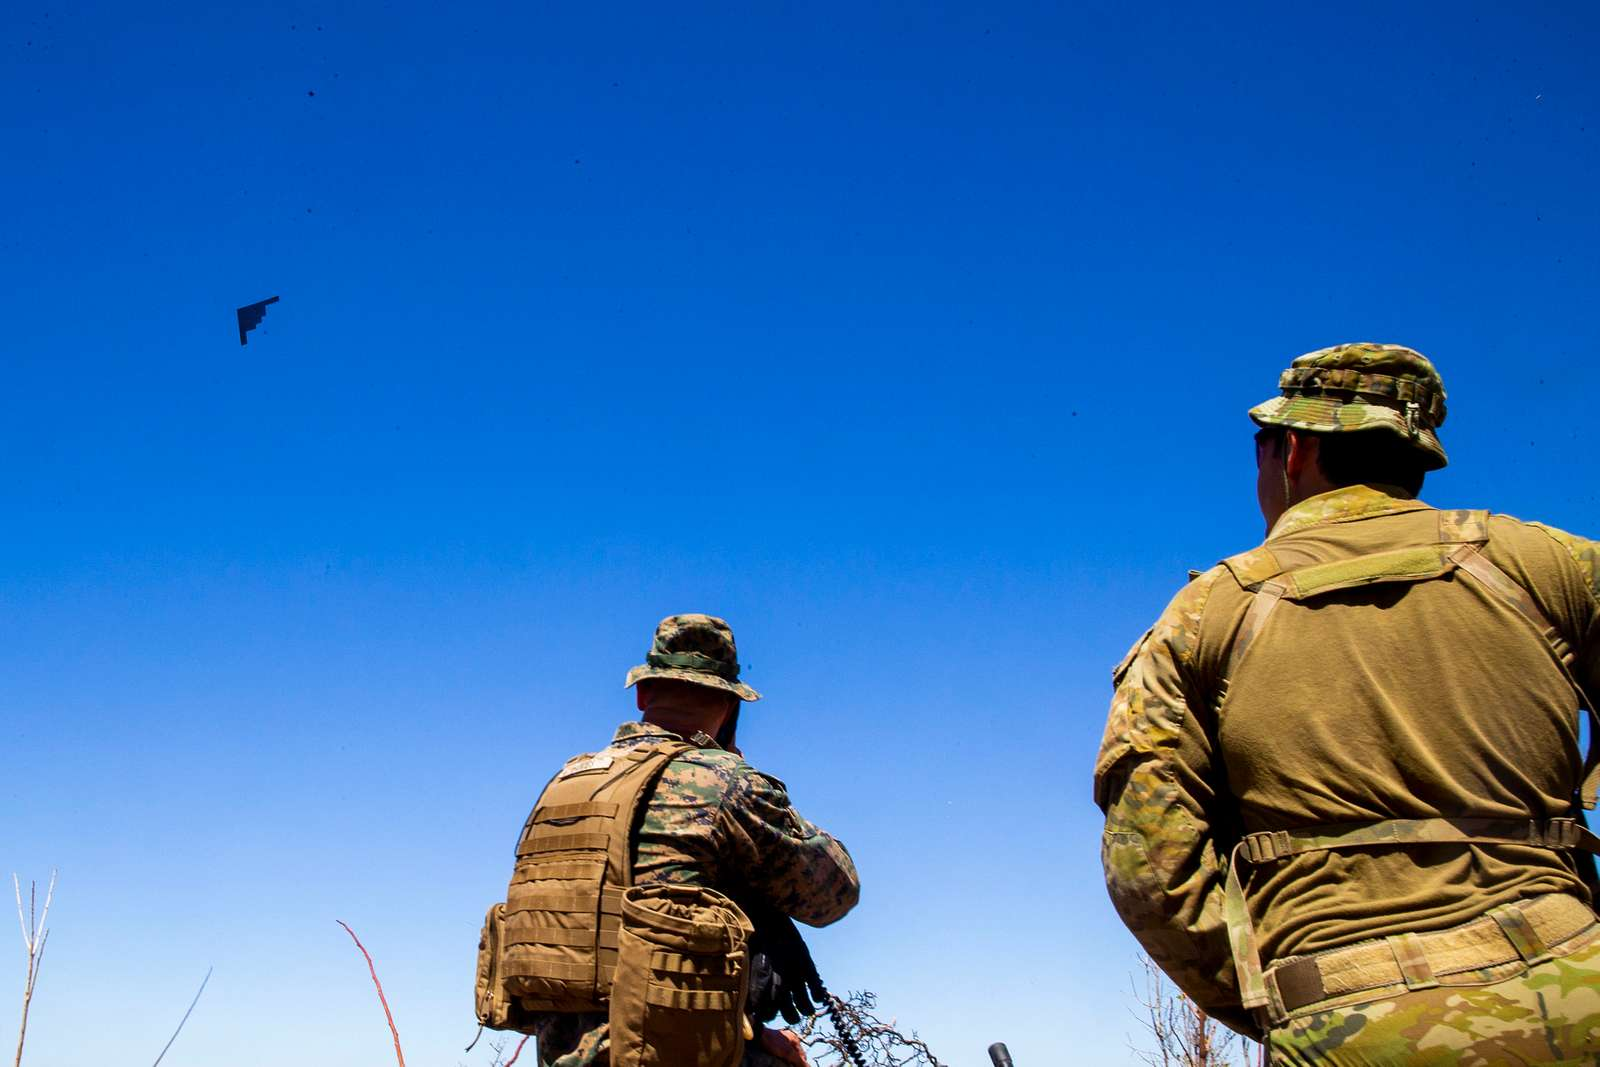B2: (235, 295, 280, 347)
